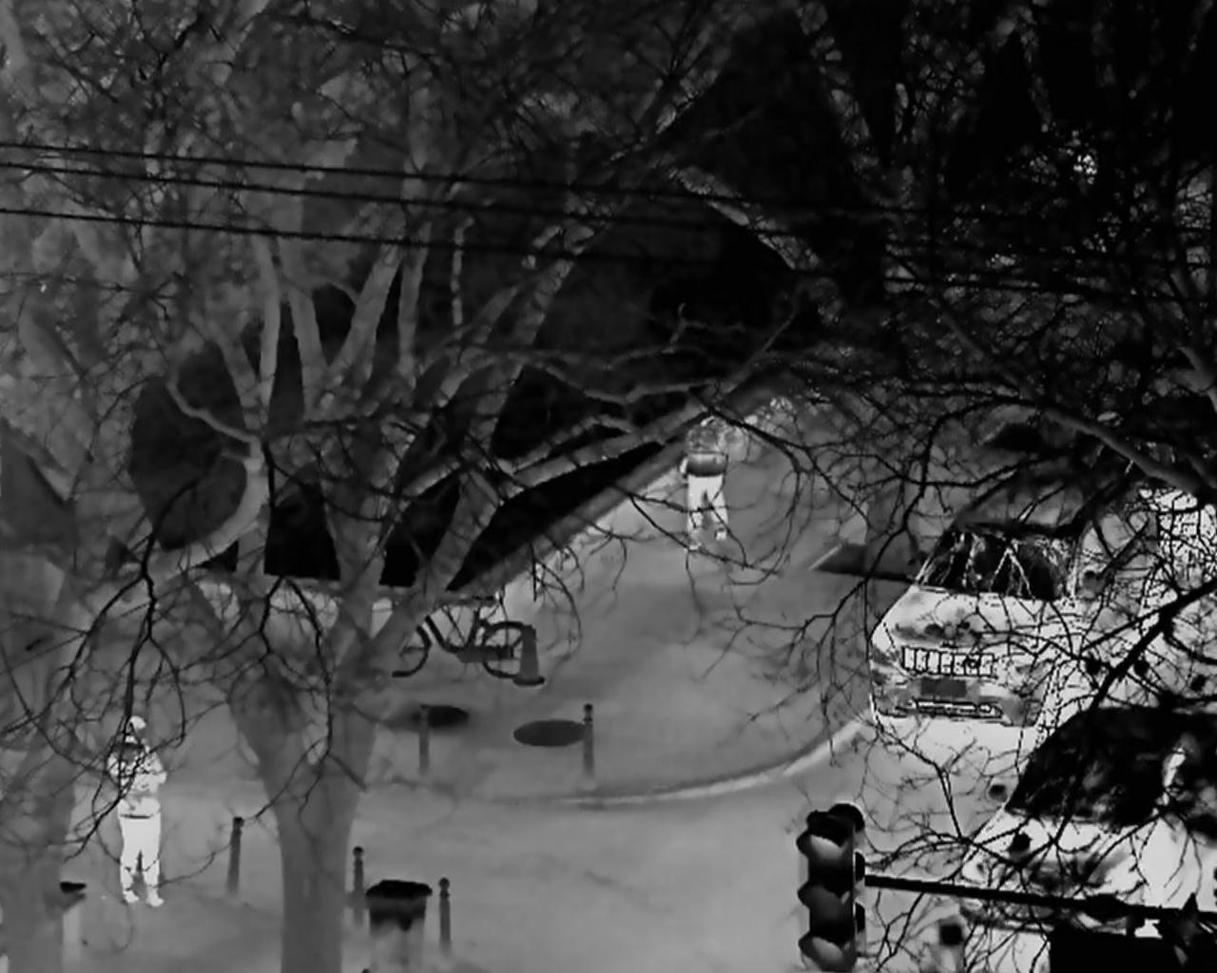person: (106, 714, 167, 909), (678, 413, 740, 550)
